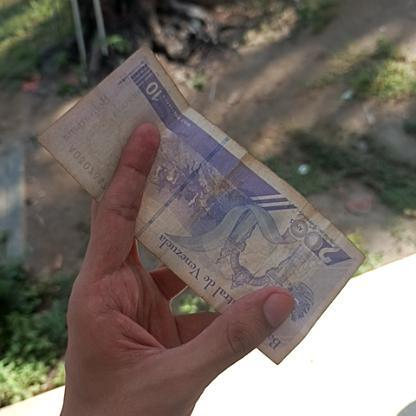vef_back: (36, 42, 366, 369)
